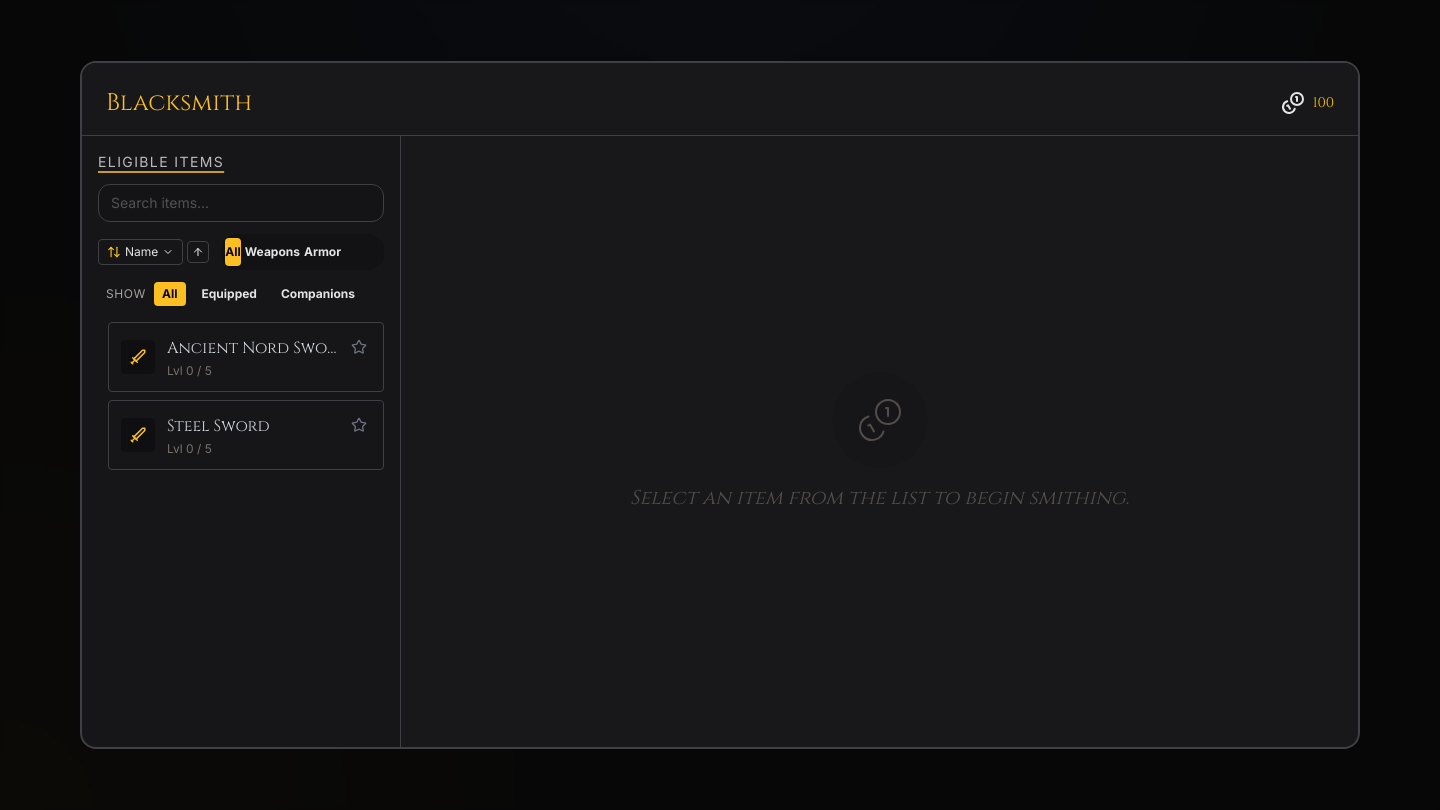
it: selected badge is visible and not clipped when an item is selected
Click the text "Ancient Nord Sword": (253, 348) [167,336,339,360]
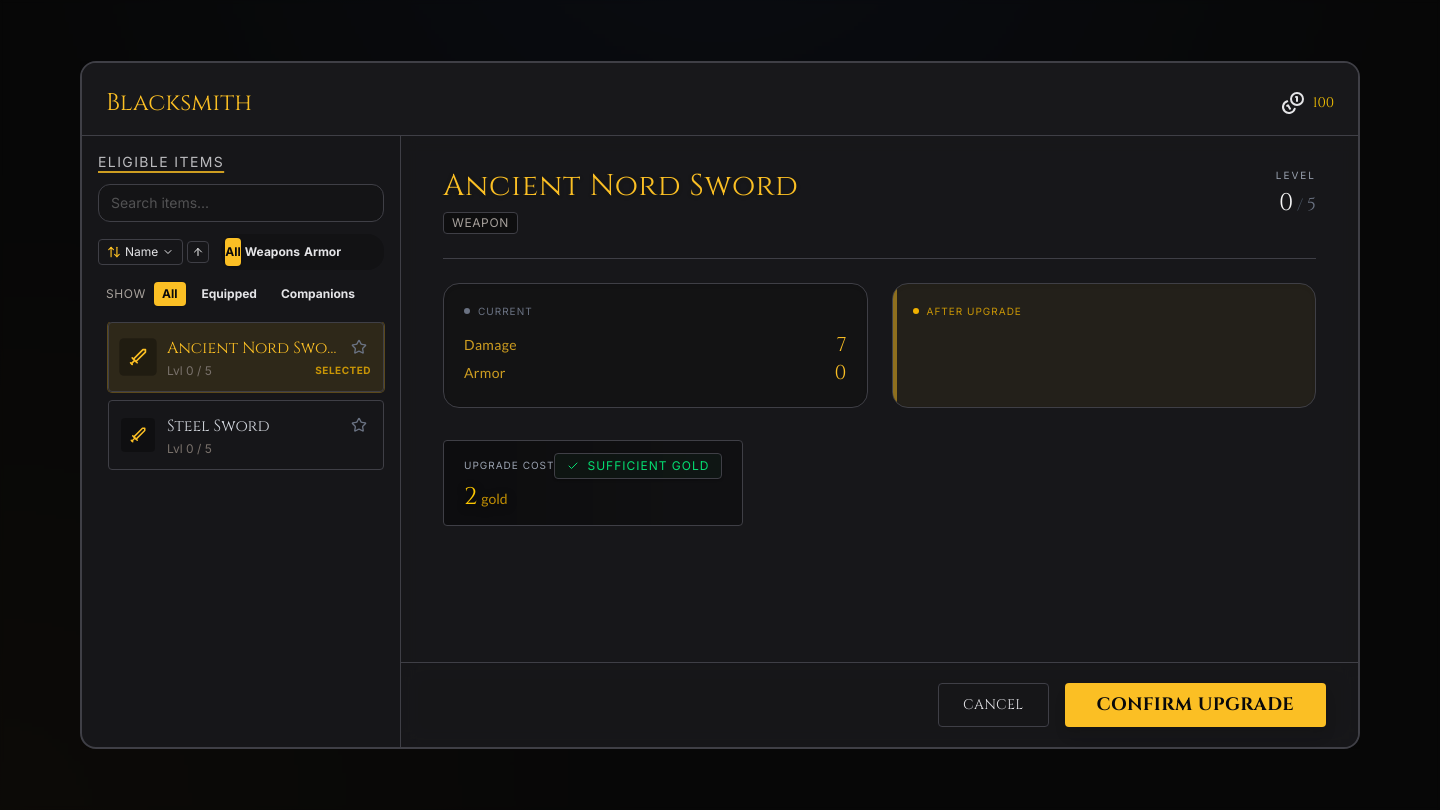
Expected: the text "Selected" is shown, [315,364,371,377]
